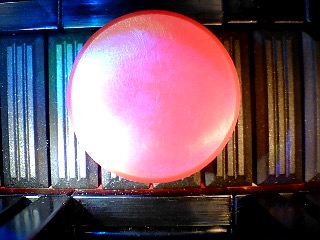BLANK: (66, 8, 242, 184)
